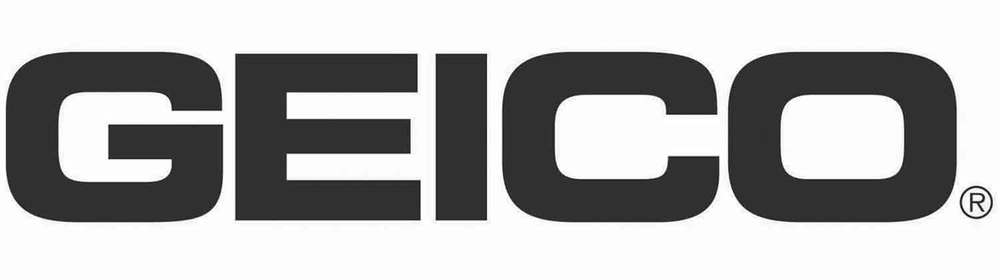Geico: (6, 52, 961, 219)
